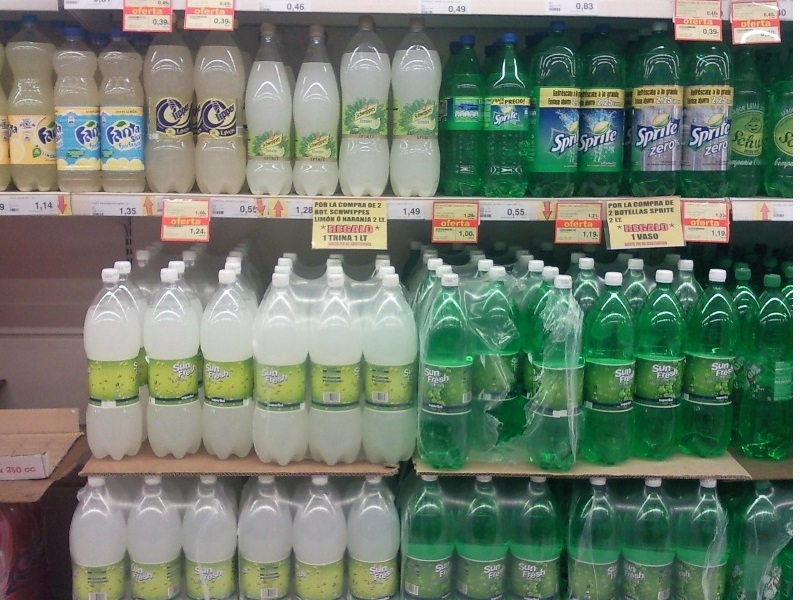lemonade: (669, 268, 739, 466), (6, 10, 72, 196), (582, 269, 641, 473), (43, 24, 111, 200), (88, 24, 155, 201), (632, 268, 687, 463), (433, 32, 496, 202), (480, 31, 541, 205), (526, 23, 584, 206), (578, 18, 634, 203)
